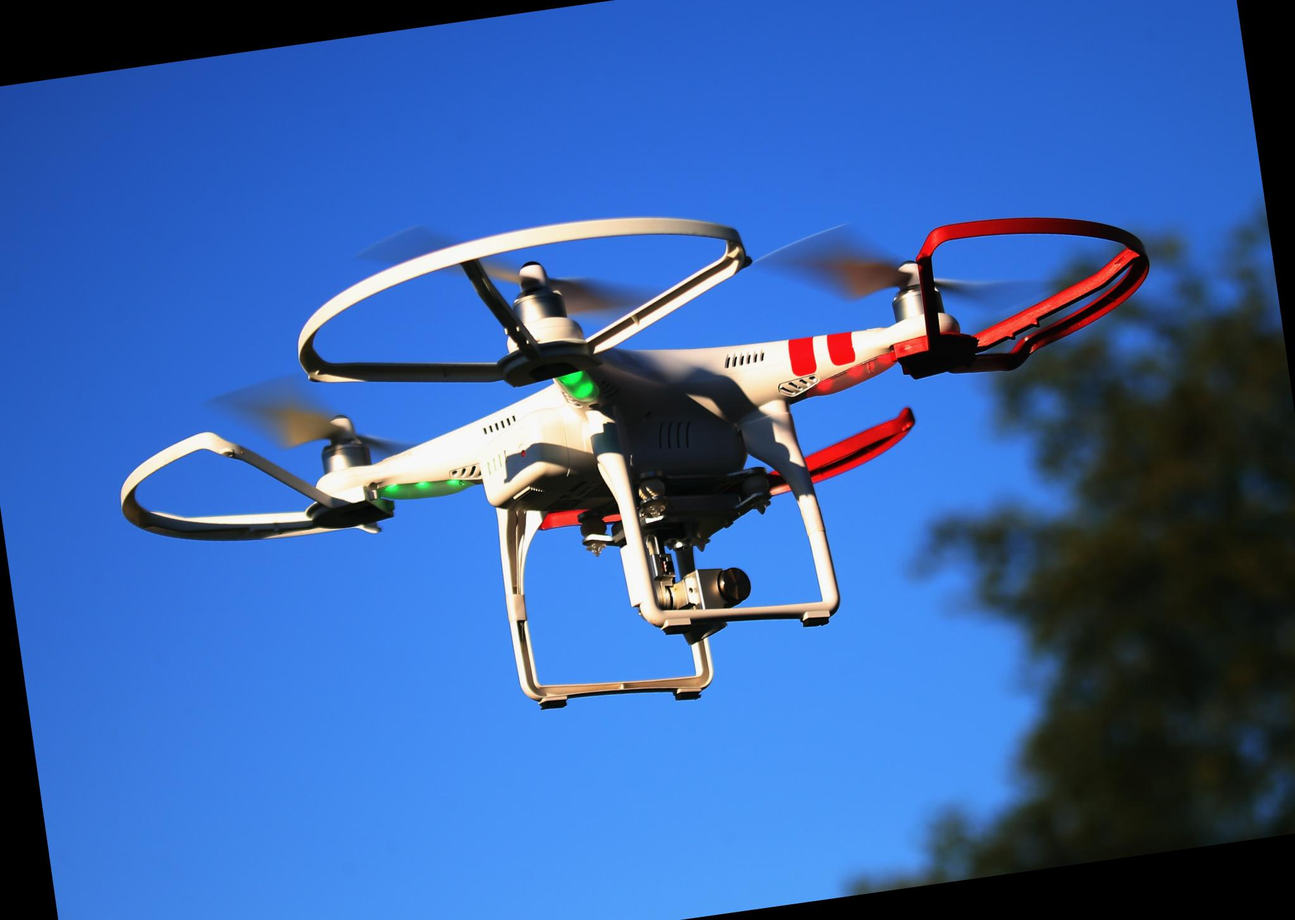drone: (79, 122, 1211, 642)
